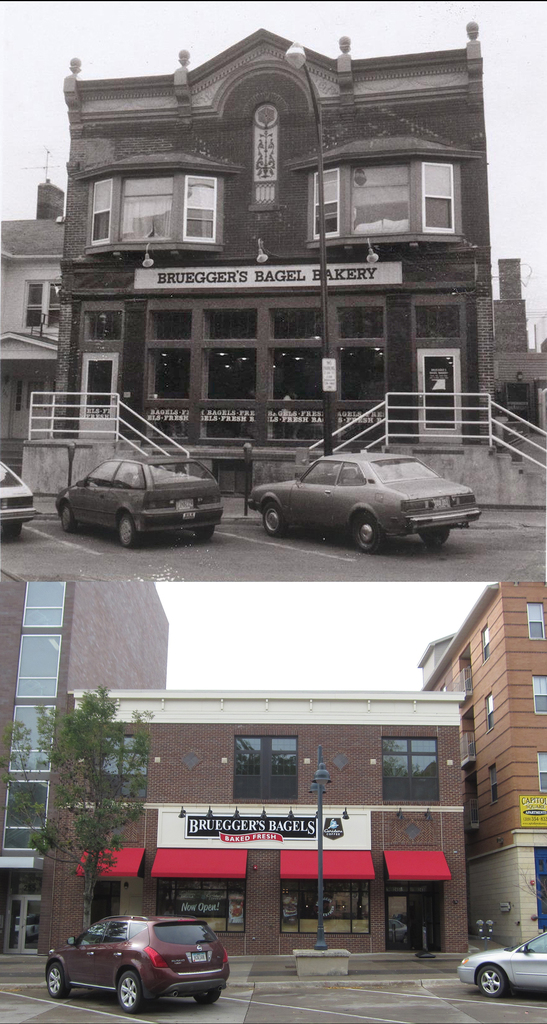Car: (247, 451, 482, 554), (45, 915, 231, 1015), (54, 455, 224, 547), (455, 929, 546, 998), (0, 462, 35, 535)
